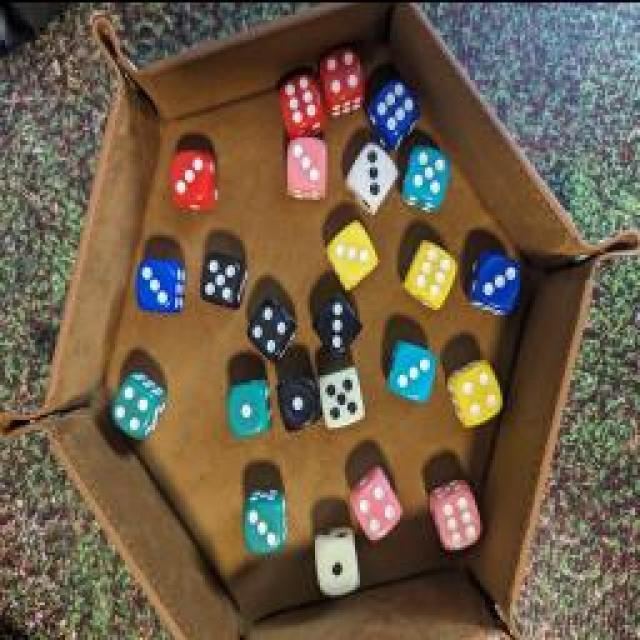dice_1: (312, 525, 362, 597), (224, 371, 276, 439), (270, 364, 320, 434)
dice_3: (342, 132, 402, 216), (322, 215, 382, 293), (468, 244, 528, 314), (310, 286, 365, 362), (280, 128, 335, 202), (134, 246, 188, 316), (381, 340, 439, 405), (169, 144, 219, 216), (239, 488, 289, 560)
dice_4: (346, 458, 402, 542), (106, 375, 172, 445), (314, 38, 371, 118), (447, 352, 505, 428), (240, 294, 298, 361)
dice_5: (398, 140, 454, 210), (318, 365, 372, 430), (199, 248, 251, 308)
dice_6: (398, 234, 464, 314), (425, 470, 485, 555), (366, 70, 424, 152), (272, 68, 328, 132)
